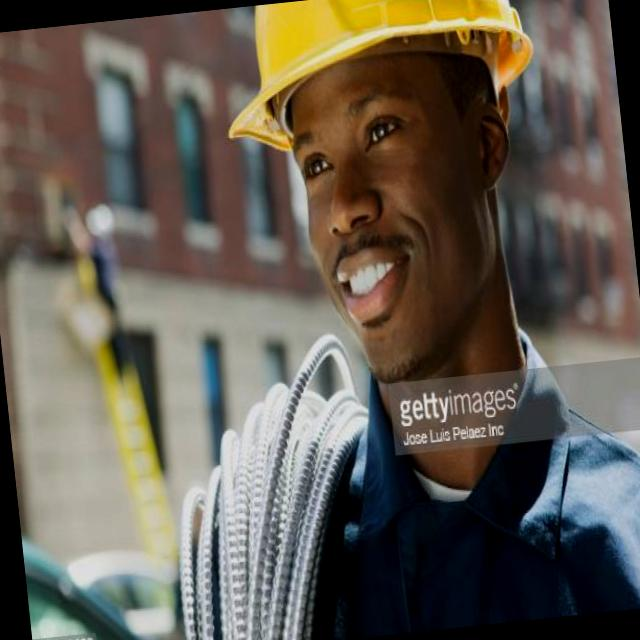helmet: (195, 0, 550, 160)
no-goggles: (268, 94, 490, 206)
no-vest: (310, 348, 640, 640)
